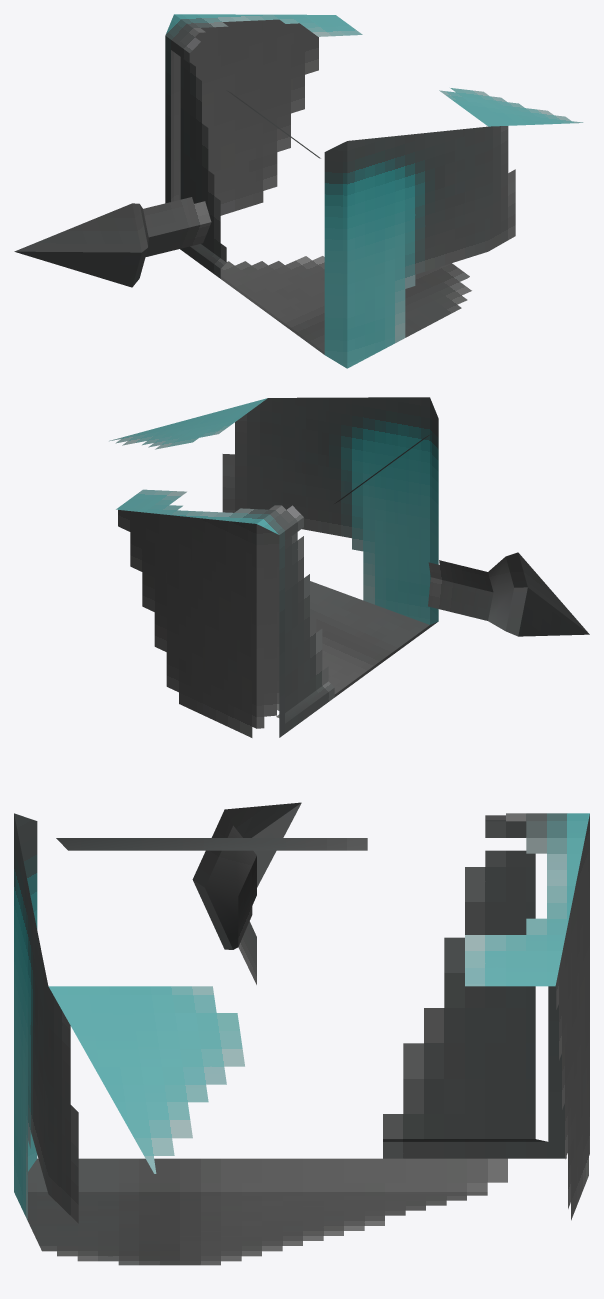
The model's file is camera2.0.obj.
3 renders of one model, top to bottom at view 1: azimuth 30°, elevation 25°; view 2: azimuth 150°, elevation 25°; view 3: azimuth 270°, elevation 25°, orthographic. The views are drawn at different scales.
Parts seen in each view (by area): view 1: Camera; view 2: Camera; view 3: Camera.
Boxes of the visible parts, x1,y1,x2,y2 form: Camera: (14, 14, 583, 368); Camera: (109, 397, 589, 737); Camera: (14, 802, 589, 1265).
Size of the model in its own units: 3.5 by 1.41 by 1.95.
